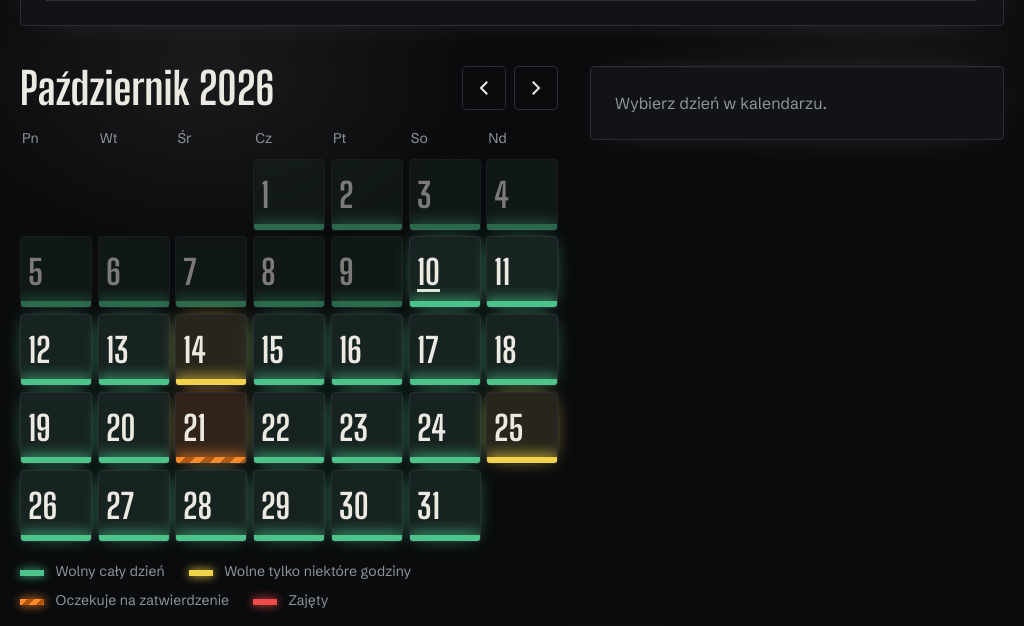
Test case: panel admina › brak konfiguracji EmailJS: zatwierdza i mówi, czego brakuje
This screenshot has width=1024, height=626.
(page scrolled)
Click the button "21".
click(211, 428)  # box [175, 392, 247, 464]
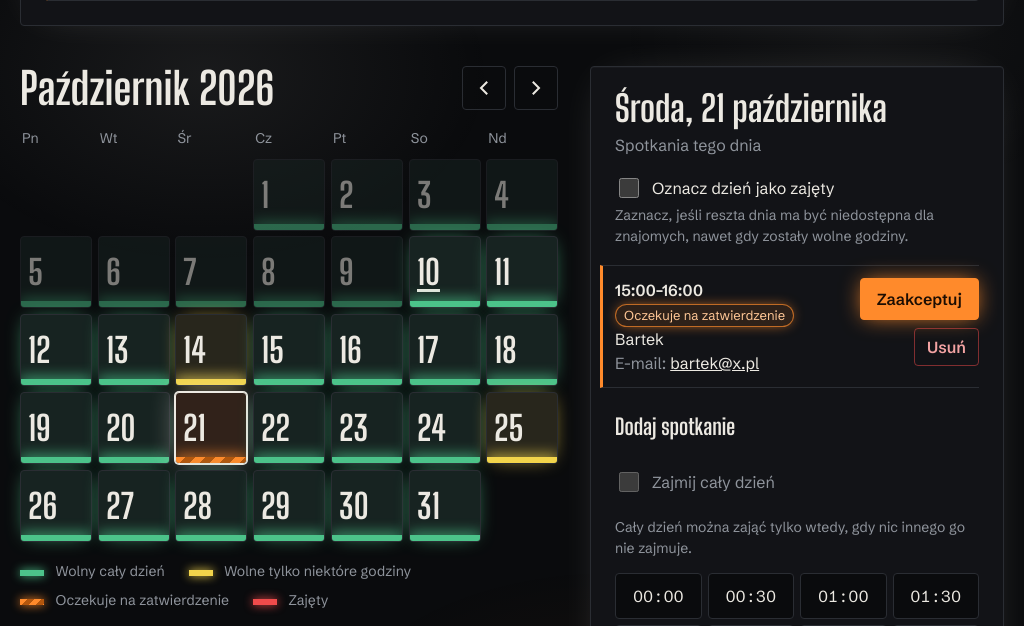
Click the button "Zaakceptuj".
click(919, 299)  # box [860, 278, 979, 320]
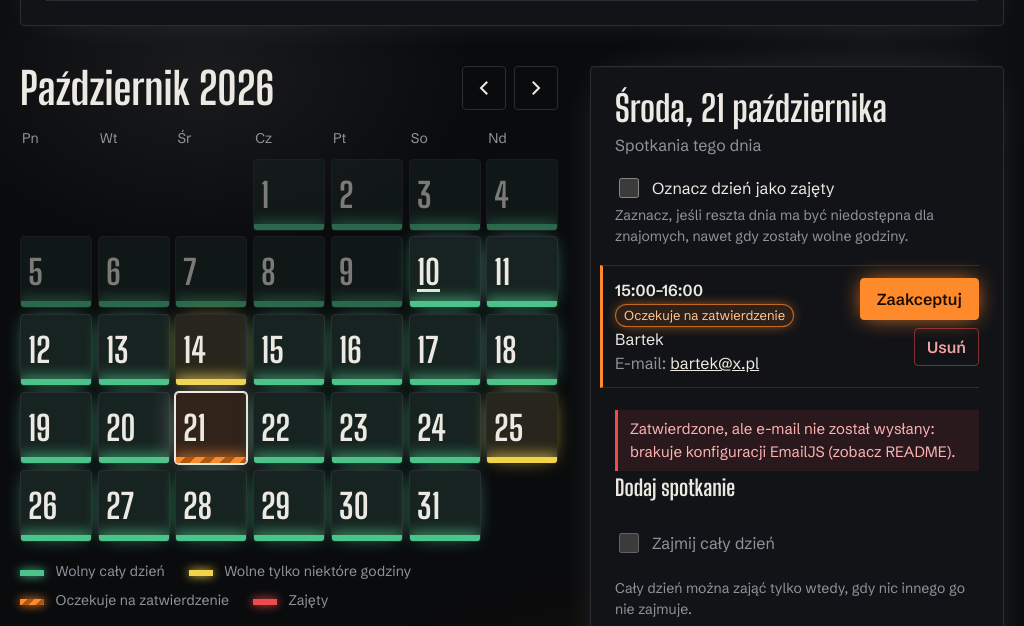
Result: the text "brakuje konfiguracji EmailJS" is shown at [630, 419, 956, 461]
